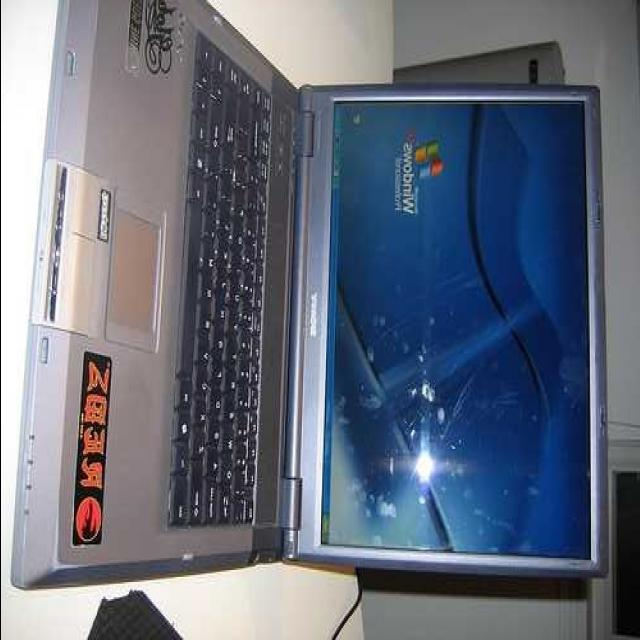laptop: (76, 15, 588, 611)
